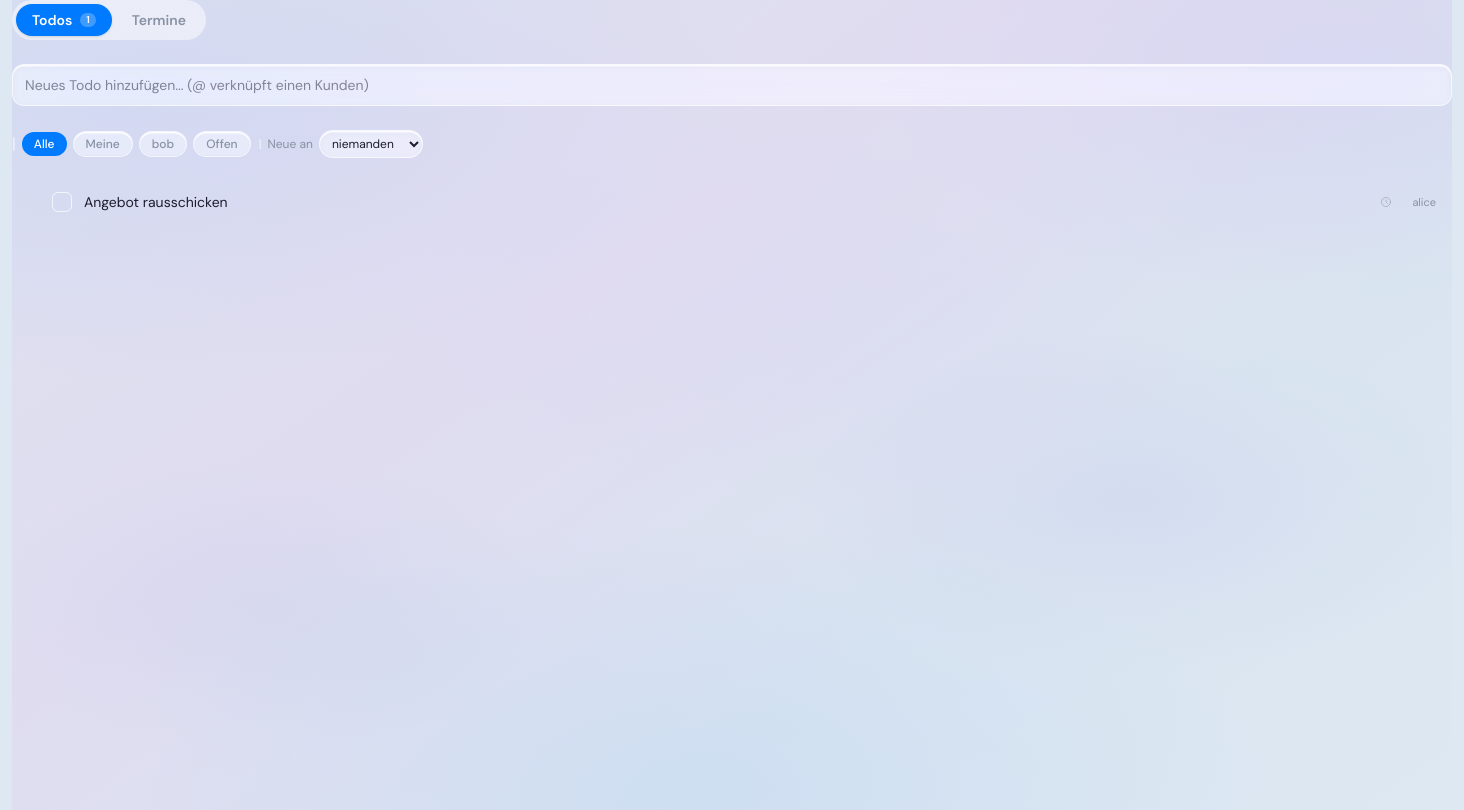
Test: TodosPage › lädt den Verlauf erst beim Aufklappen
Expected: the text "Angebot rausschicken" is shown, top-left (84, 193), bottom-right (228, 211)
Click the button "Angebot rausschicken". click: (156, 202)
box: top-left (84, 192), bottom-right (1360, 212)
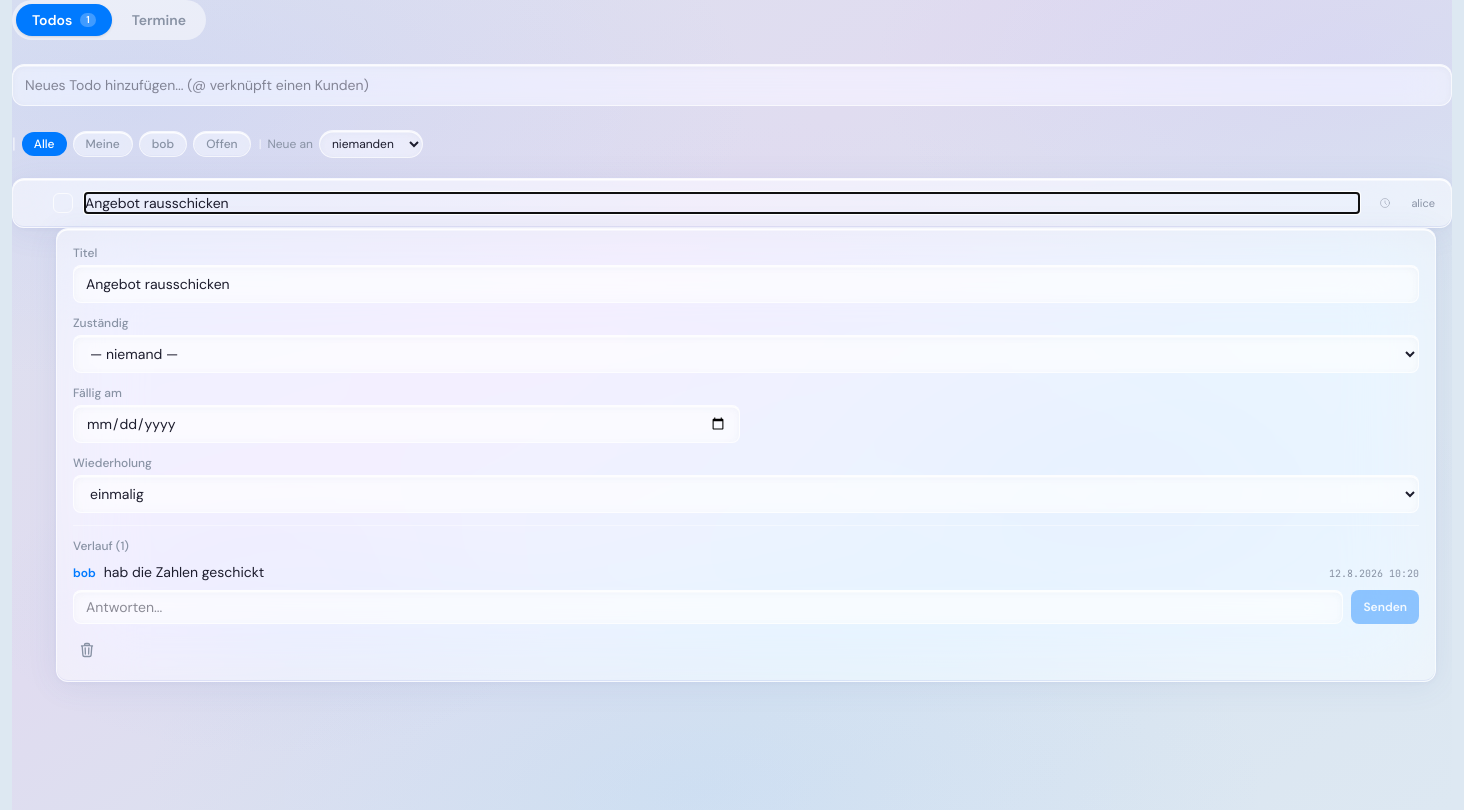
Result: the text "bob" is shown at top-left (73, 565), bottom-right (96, 581)
